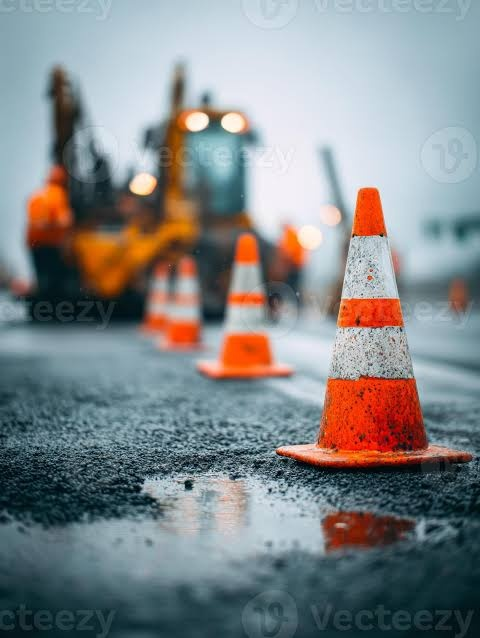machinery: (22, 55, 297, 330)
person: (24, 171, 94, 341)
safety_cone: (308, 186, 461, 484), (210, 230, 290, 386), (137, 245, 211, 355)
